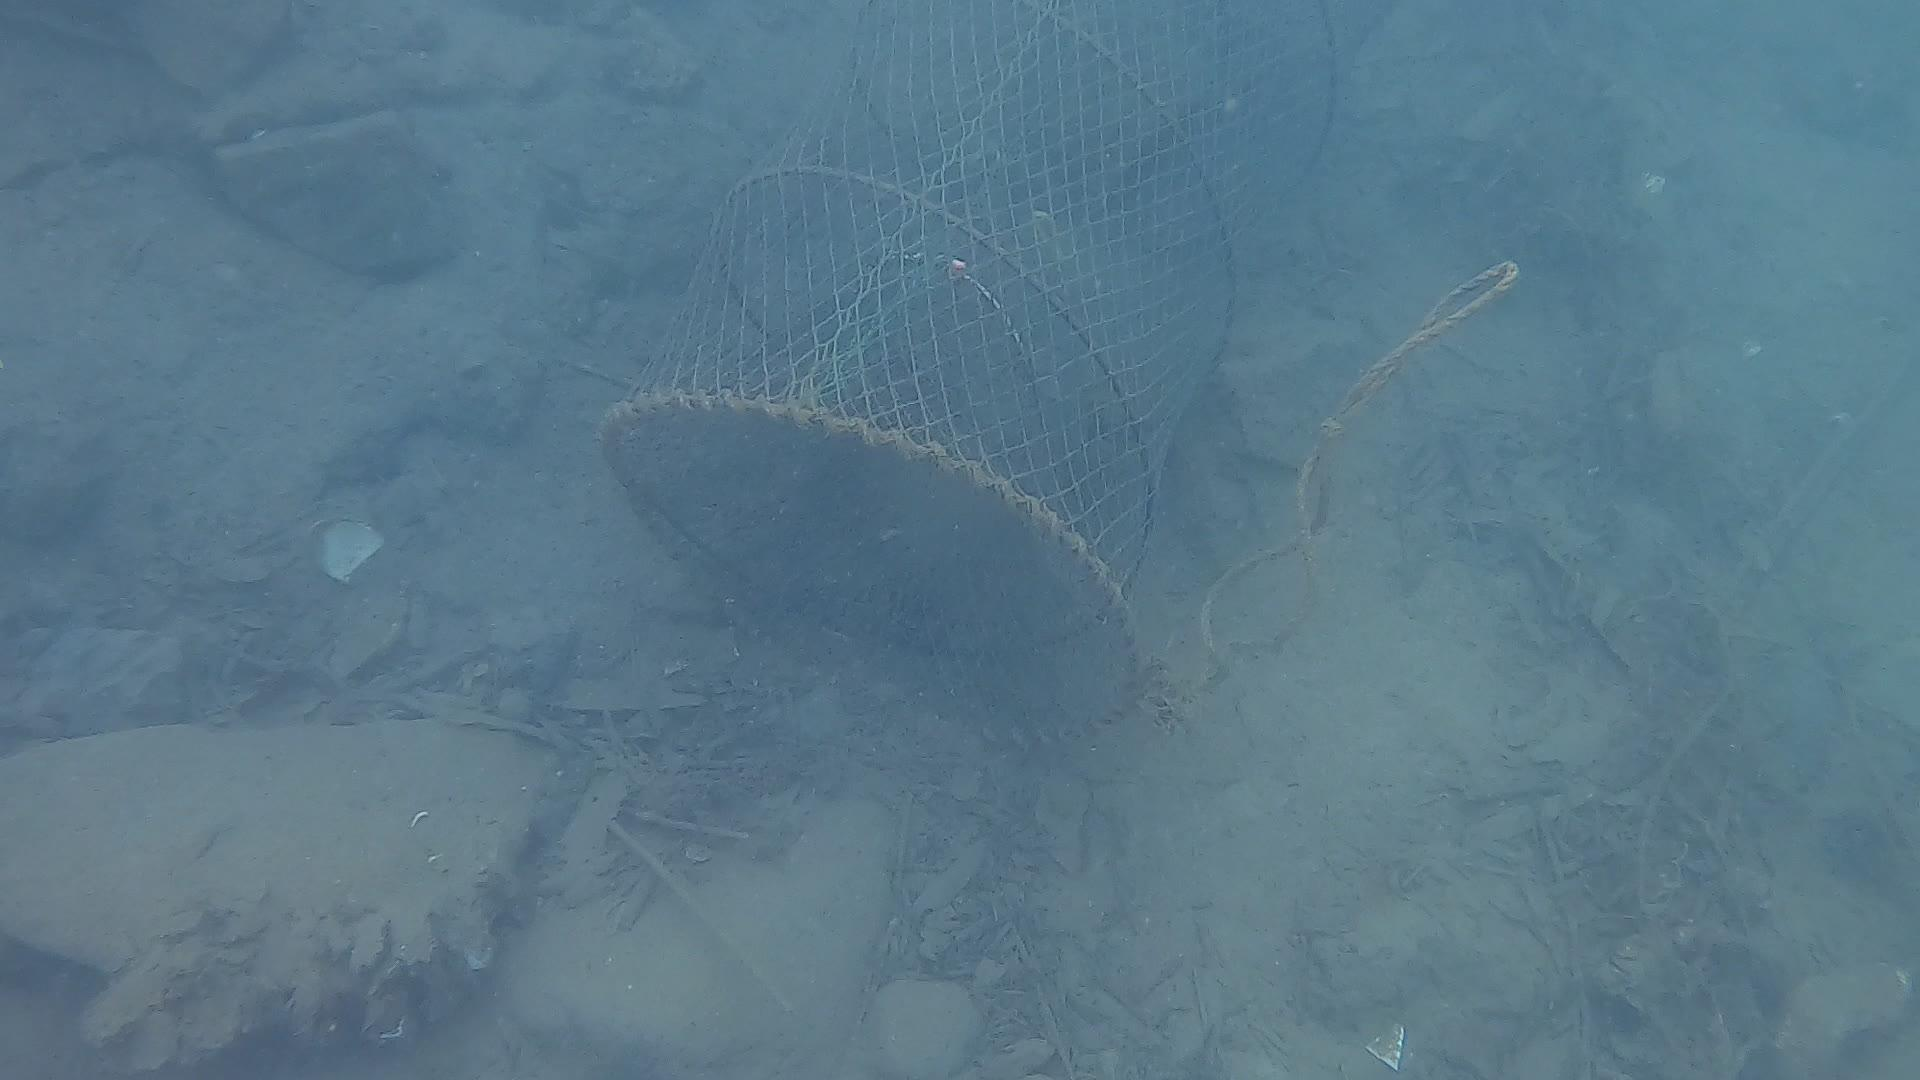bundle of ropes: (1163, 247, 1530, 715)
spring fish trap: (591, 0, 1400, 742)
